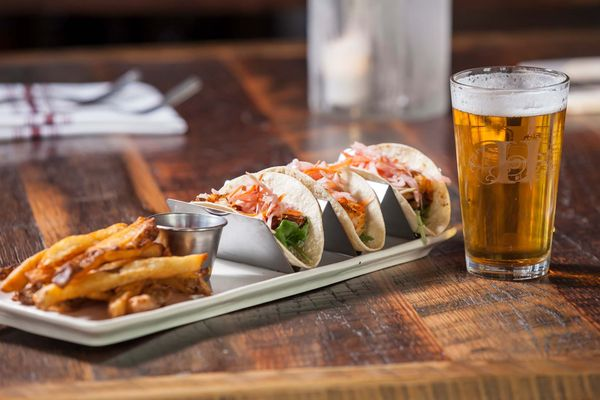soup: (188, 165, 325, 271)
